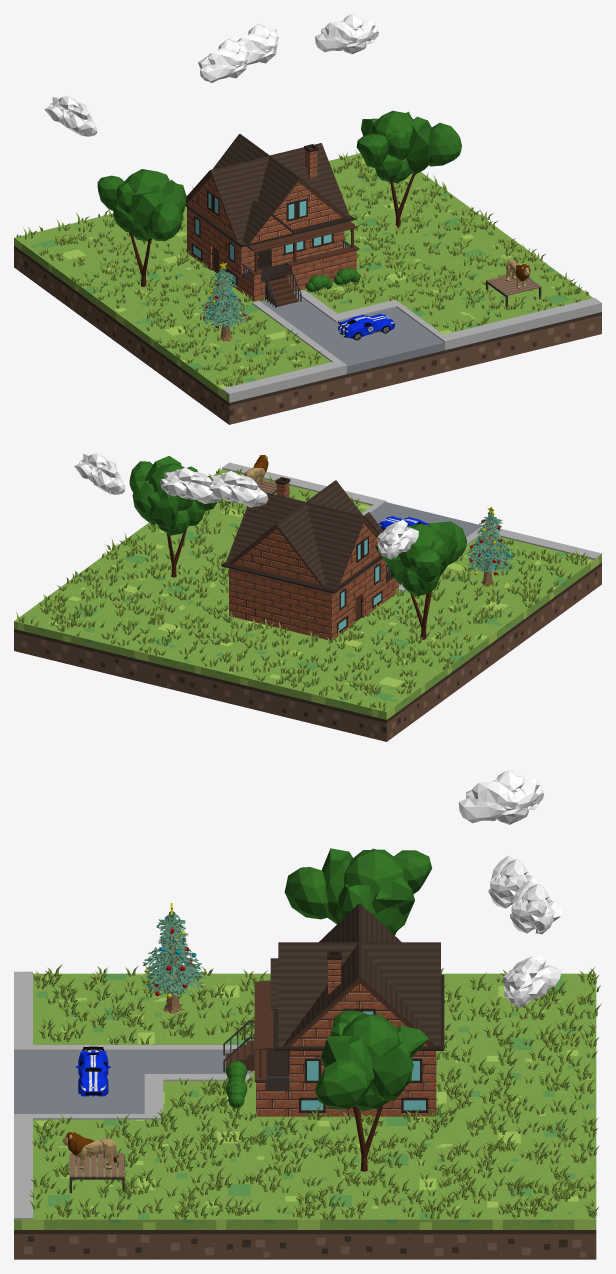
3 renders of one model, top to bottom at view 1: azimuth 30°, elevation 25°; view 2: azimuth 150°, elevation 25°; view 3: azimuth 270°, elevation 25°, orthographic. The views are drawn at different scales.
Parts seen in each view (by area): view 1: Cube.006, Cube.469, Circle.012_Grass_0.192, Cube.007, tree, tree.001, OBJRANDOM_CHRISTMAS_TREE, VEHICLES_RACING_CAR, Cube.009; view 2: Cube.006, Cube.469, Circle.012_Grass_0.192, Cube.007, tree.001, tree, OBJRANDOM_CHRISTMAS_TREE, ANIMAL_LEON; view 3: Cube.006, Circle.012_Grass_0.192, Cube.469, tree, Cube.007, tree.001, OBJRANDOM_CHRISTMAS_TREE, VEHICLES_RACING_CAR, Cube.009, ANIMAL_LEON.
Boxes of the visible parts, x1,y1,x2,y2 form: Cube.006: [14, 153, 601, 424]; Cube.469: [185, 134, 359, 308]; Circle.012_Grass_0.192: [16, 150, 588, 386]; Cube.007: [44, 14, 378, 136]; tree: [356, 110, 461, 228]; tree.001: [97, 169, 186, 286]; OBJRANDOM_CHRISTMAS_TREE: [199, 262, 249, 341]; VEHICLES_RACING_CAR: [338, 313, 394, 340]; Cube.009: [486, 274, 541, 306]; Cube.006: [14, 462, 601, 741]; Cube.469: [221, 477, 398, 640]; Circle.012_Grass_0.192: [16, 468, 588, 711]; Cube.007: [74, 453, 418, 559]; tree.001: [375, 521, 467, 639]; tree: [129, 456, 216, 577]; OBJRANDOM_CHRISTMAS_TREE: [465, 506, 512, 587]; ANIMAL_LEON: [244, 455, 268, 484]; Cube.006: [14, 971, 596, 1259]; Circle.012_Grass_0.192: [29, 964, 601, 1220]; Cube.469: [223, 903, 444, 1116]; tree: [315, 1010, 428, 1171]; Cube.007: [458, 770, 561, 1007]; tree.001: [284, 848, 432, 935]; OBJRANDOM_CHRISTMAS_TREE: [142, 903, 205, 1014]; VEHICLES_RACING_CAR: [76, 1046, 110, 1096]; Cube.009: [69, 1153, 124, 1193]; ANIMAL_LEON: [62, 1131, 117, 1169].
Size of the model in its own units: 4071 by 2153 by 4040.
Materials: 38 (4 with a texture image).
